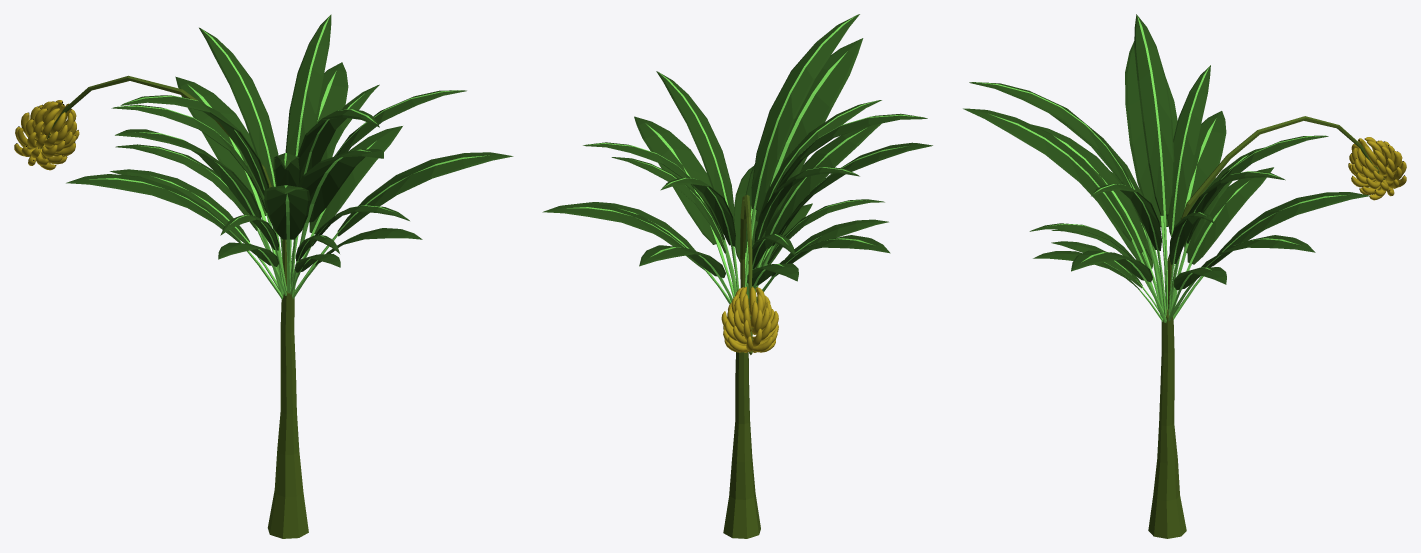
Rendered from SM_BananaTree_001.fbx.
3 views of the same model, side by side, from view 1: azimuth 30°, elevation 25°; view 2: azimuth 150°, elevation 25°; view 3: azimuth 270°, elevation 25° (orthographic). The views are drawn at different scales.
Visible parts, largest first — view 1: BananaTree; view 2: BananaTree; view 3: BananaTree.
Boxes of the visible parts, left/top/right/bottom form: BananaTree: left=14, top=14, right=513, bottom=538; BananaTree: left=542, top=14, right=932, bottom=538; BananaTree: left=963, top=14, right=1406, bottom=538.
Size of the model in its own units: 273 by 350 by 320.
